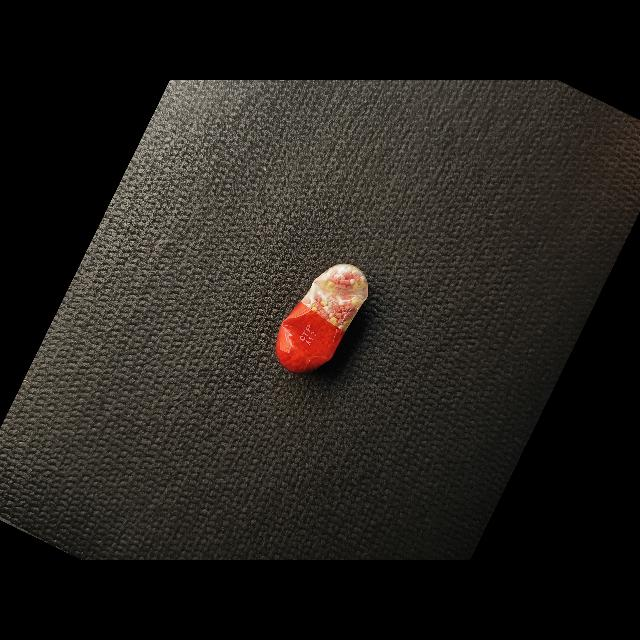Defective Capsule: (276, 264, 368, 374)
